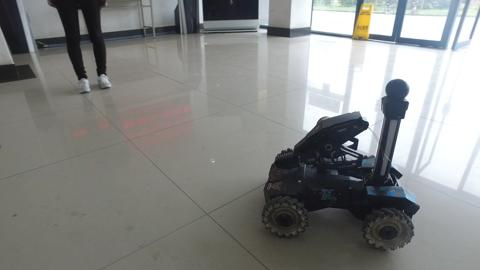chariot: (259, 78, 422, 253)
